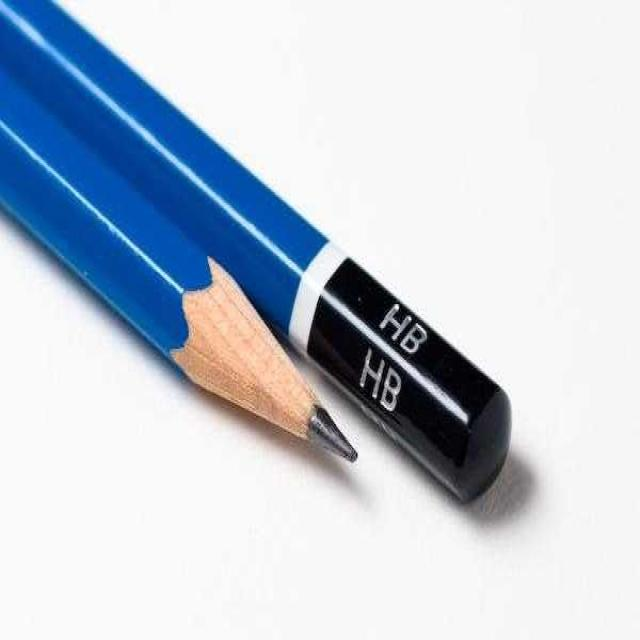pencil: (1, 2, 559, 542)
